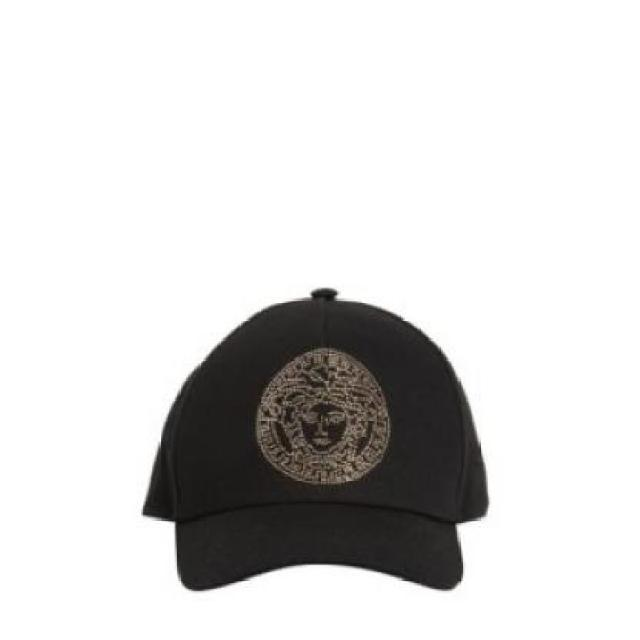hat: (143, 282, 492, 595)
